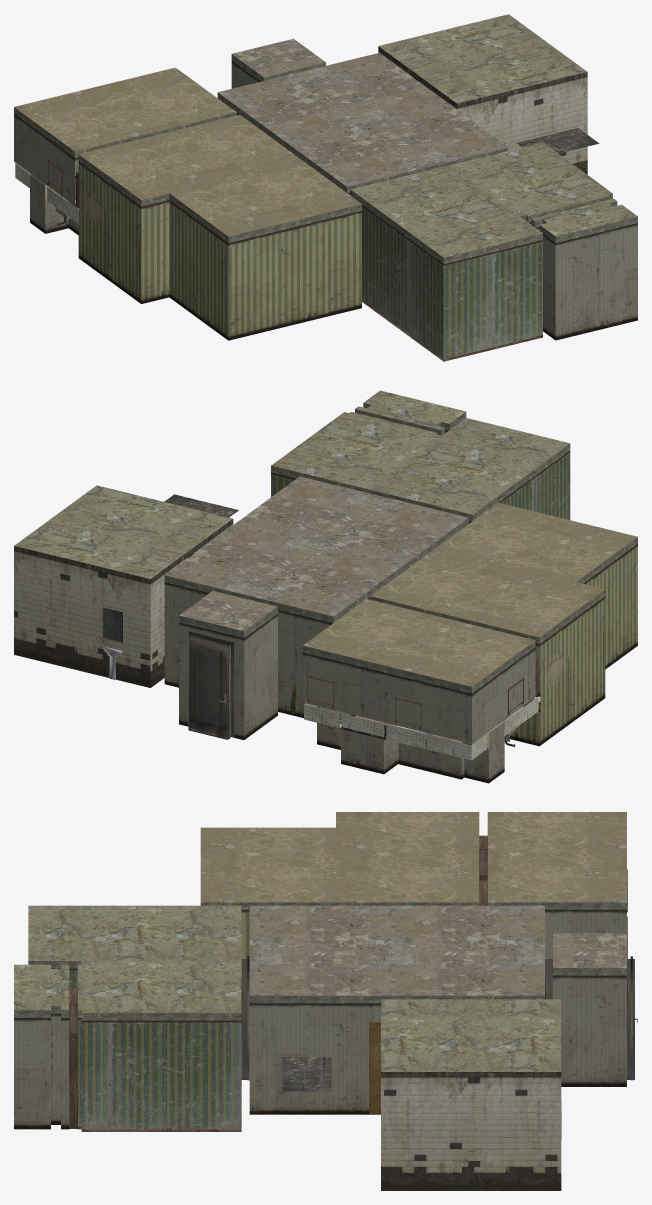
File: gm_apartment_v2.glb
The picture shows the model from 3 angles, top to bottom: view 1: azimuth 30°, elevation 25°; view 2: azimuth 150°, elevation 25°; view 3: azimuth 270°, elevation 25°; orthographic projection. The views are drawn at different scales.
Parts seen in each view (by area): view 1: Object_17, Object_12, Object_19, Object_11, Object_3, Object_10, Object_14, Object_9, Object_15, Object_4, Object_5; view 2: Object_3, Object_12, Object_19, Object_11, Object_14, Object_17, Object_70, Object_4, Object_10, Object_9, Object_13, Object_15 (+1 smaller); view 3: Object_12, Object_19, Object_3, Object_11, Object_14, Object_10, Object_2, Object_13, Object_9, Object_15, Object_17, Object_79 (+1 smaller).
Boxes of the visible parts, x1,y1,x2,y2 form: Object_17: (78,154,361,340); Object_12: (351,14,637,257); Object_19: (14,67,361,236); Object_11: (218,38,507,186); Object_3: (14,54,637,340); Object_10: (362,206,542,359); Object_14: (378,46,587,174); Object_9: (350,189,612,265); Object_15: (516,128,599,153); Object_4: (15,163,79,224); Object_5: (362,300,542,361); Object_3: (164,403,535,783); Object_12: (14,390,569,578); Object_19: (303,502,637,686); Object_11: (165,476,468,631); Object_14: (14,519,233,687); Object_17: (370,537,637,746); Object_70: (189,634,229,739); Object_4: (304,696,538,760); Object_10: (271,452,570,523); Object_9: (271,409,570,522); Object_13: (188,631,234,739); Object_15: (164,494,238,517); Object_12: (14,905,561,1071); Object_19: (200,812,626,902); Object_3: (14,902,626,1129); Object_11: (249,905,626,995); Object_14: (381,1072,561,1190); Object_10: (69,970,241,1129); Object_2: (51,835,487,1128); Object_13: (241,959,634,1079); Object_9: (69,961,241,1022); Object_15: (282,1057,331,1091); Object_17: (200,902,479,958); Object_79: (369,1022,380,1113).
Bounding box in the file's own units: 13.06 × 2.85 × 13.23.
78 materials, 78 textured.
